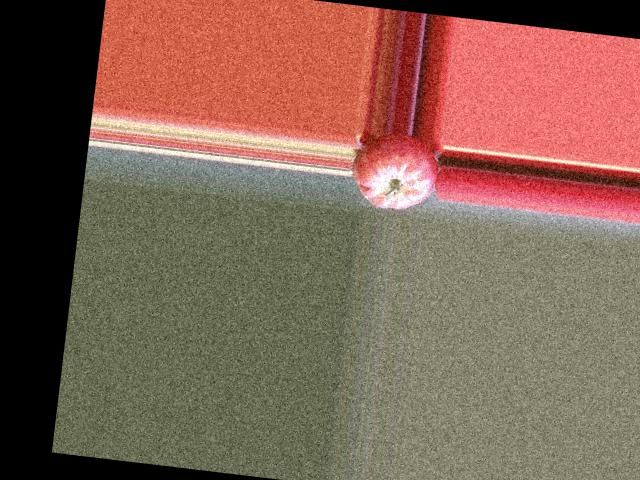tomato: (347, 128, 441, 213)
